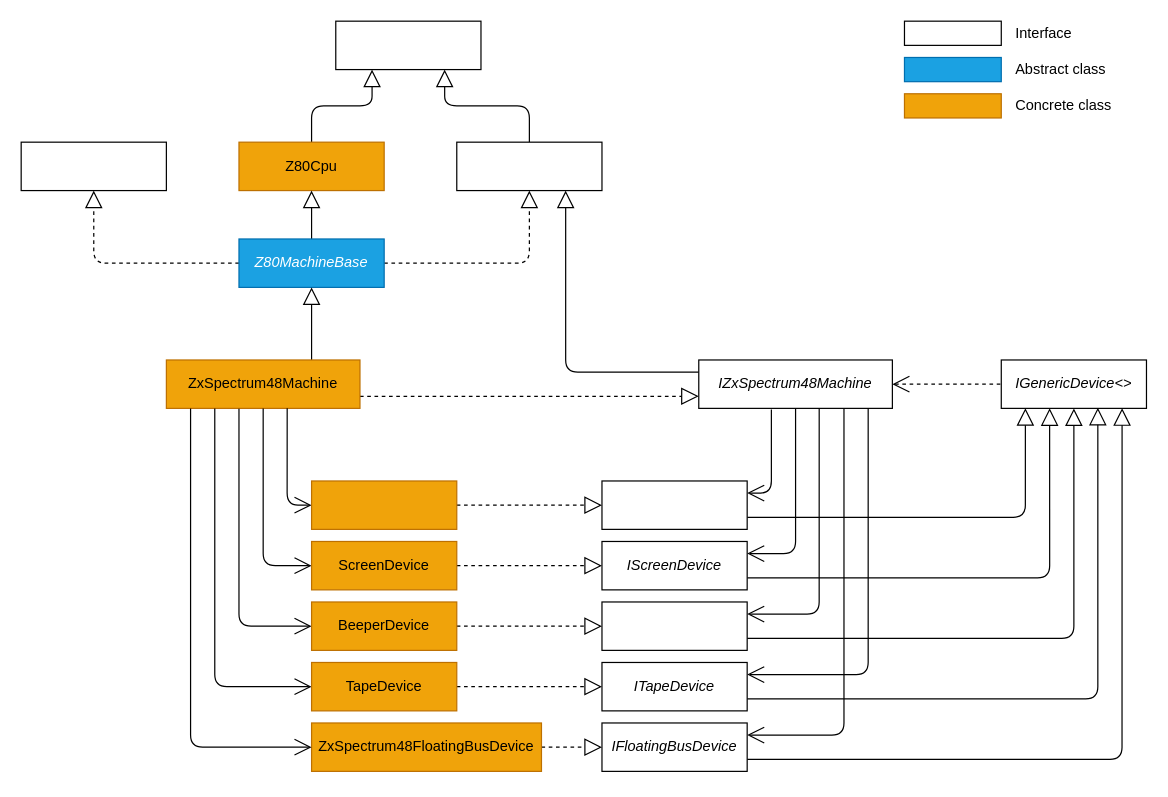
This 1168x797 diagram has some shape labels left out. Here are the shapes that lost their labels. From the top down, the centre of each, then its label:
[408,45]: IZ80Cpu
[93,166]: IDebugSupport
[529,166]: IZ80Machine
[383,504]: KeyboardDevice
[674,504]: IKeyboardDevice
[674,625]: IBeeperDevice
